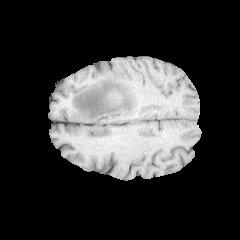glioma: (67, 69, 143, 123)
